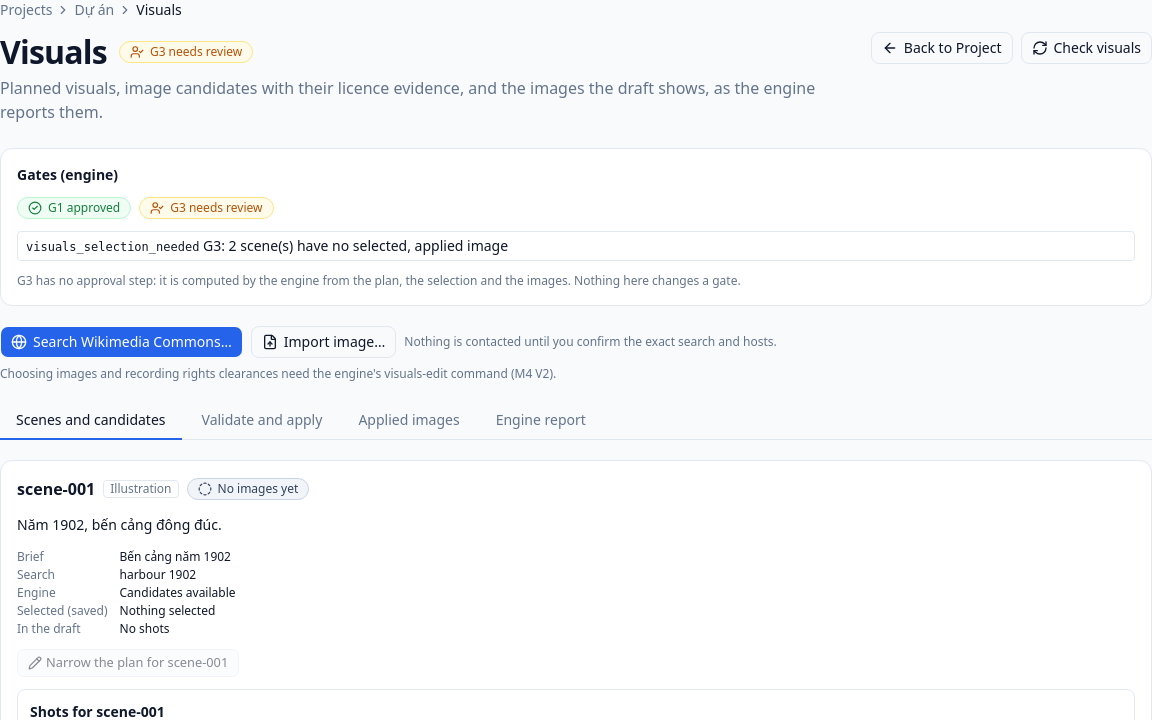
Test: visuals workspace › drops a preview answer that arrives after a newer check
Step 1. Click the button "Search Wikimedia Commons…" → (121, 342), box left=0, top=326, right=243, bottom=358
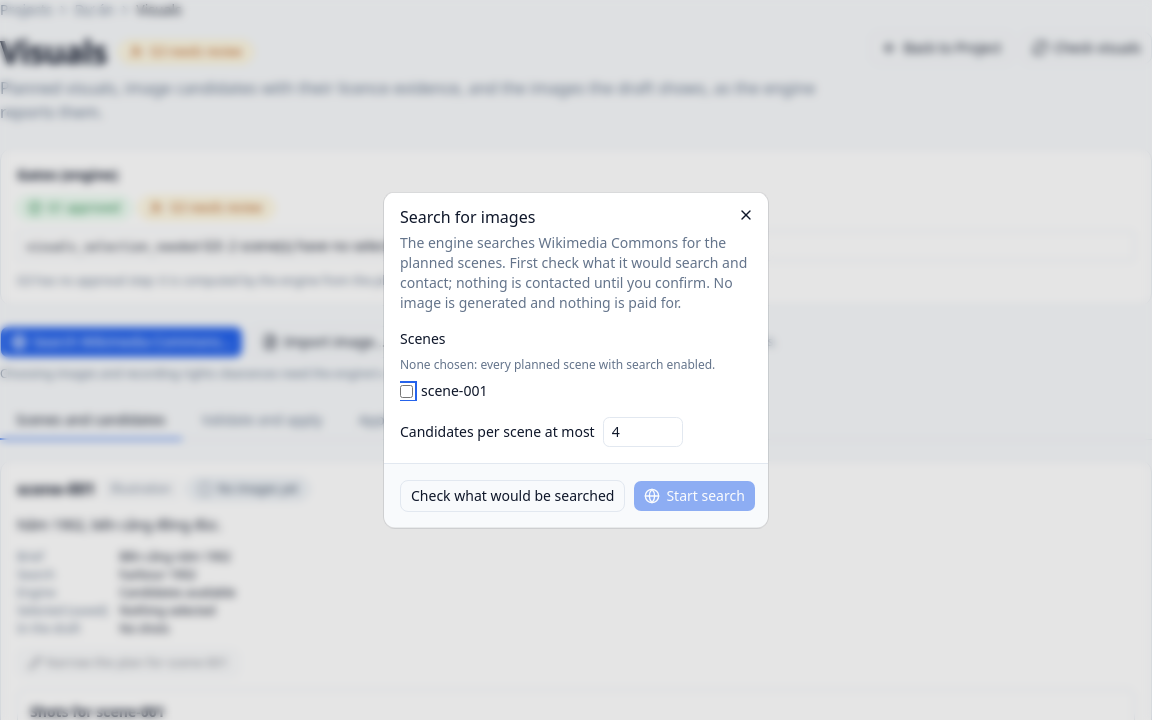
Step 2. Click the button "Check what would be searched" → (513, 496), box left=400, top=480, right=625, bottom=512
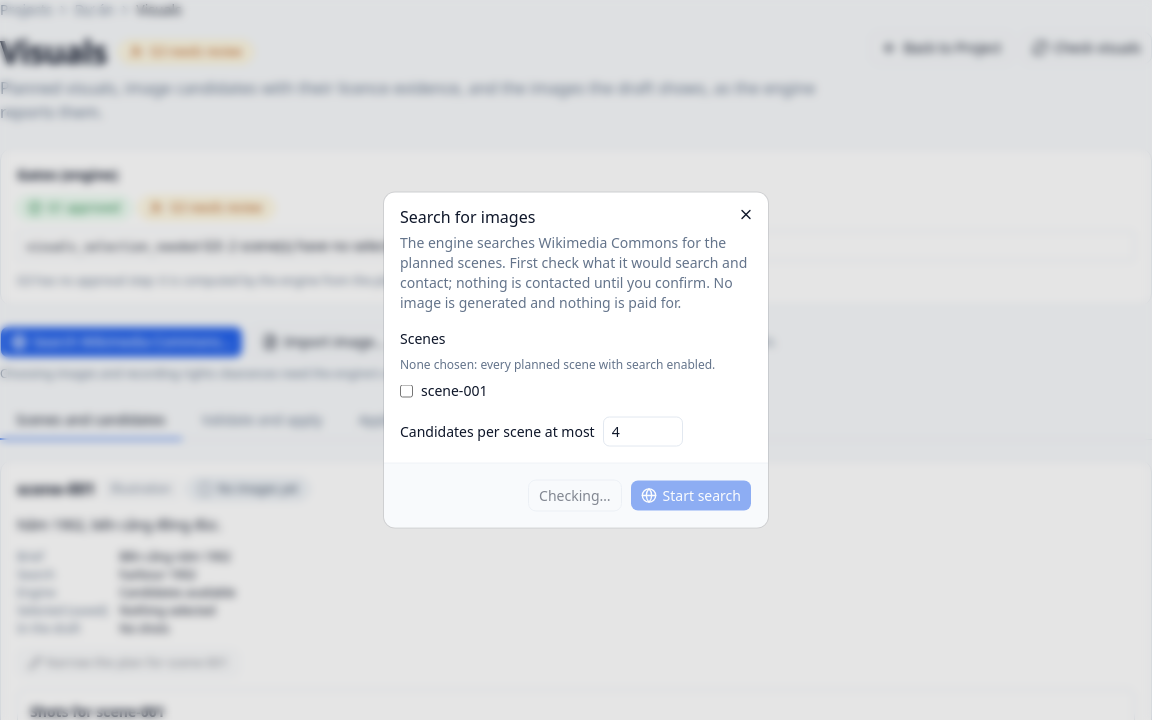
Step 3. Replace the text in the number field with "3" → (643, 432), box left=603, top=416, right=683, bottom=446
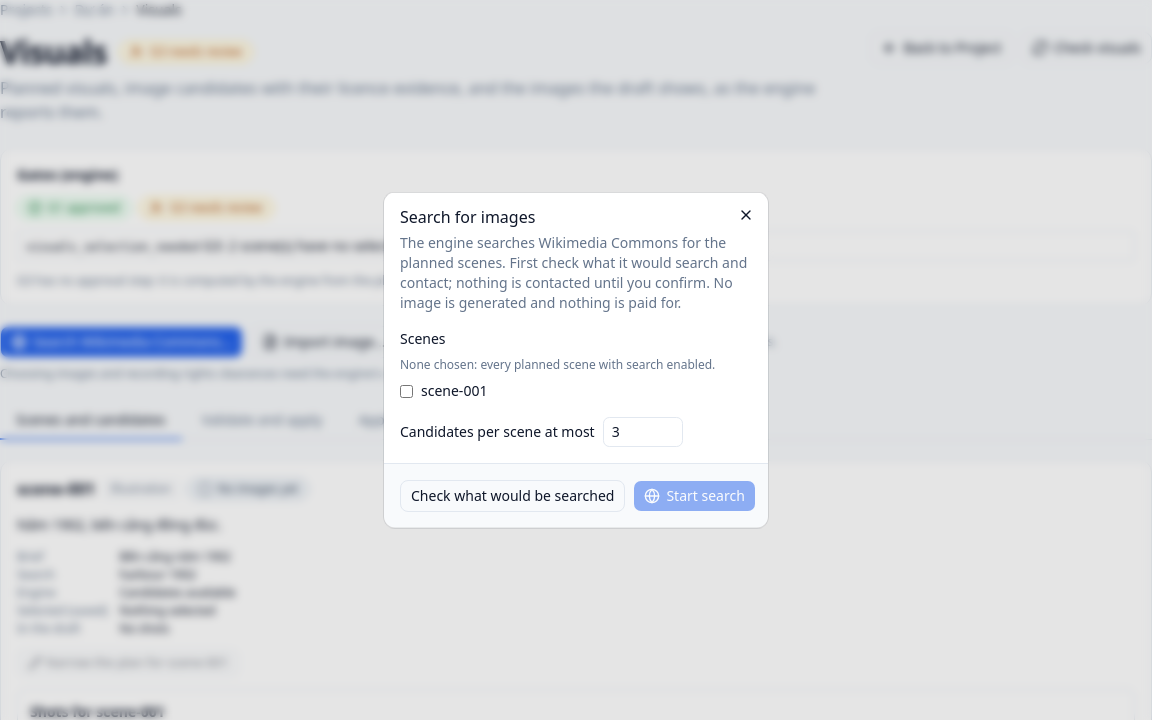
Step 4. Click the button "Check what would be searched" → (513, 496), box left=400, top=480, right=625, bottom=512
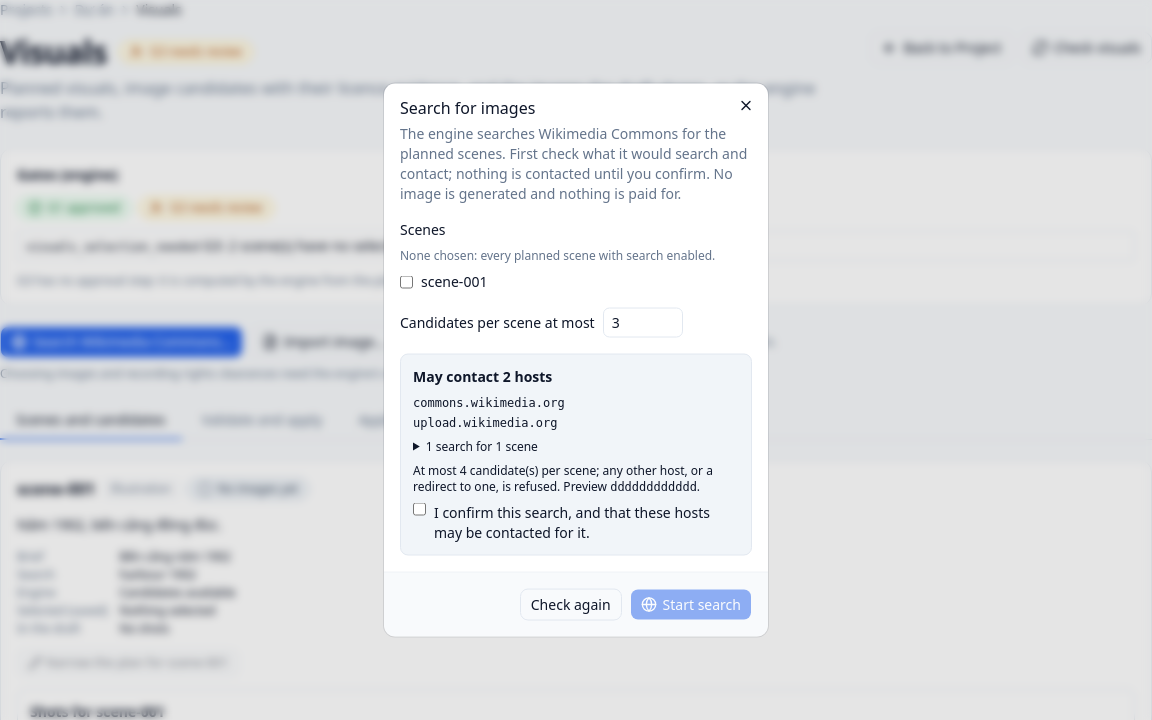
Expected: the list named "Hosts that may be contacted" is shown, left=413, top=396, right=565, bottom=430
